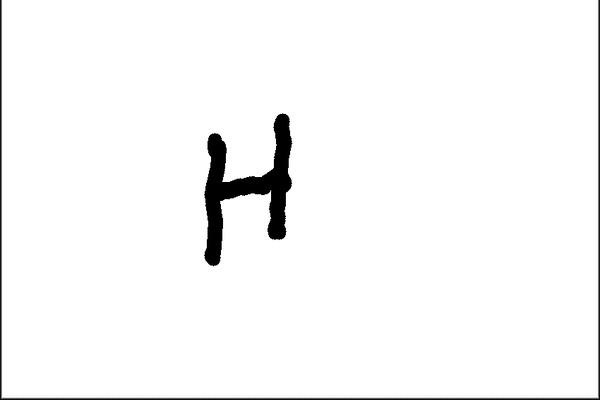H: (196, 110, 309, 266)
